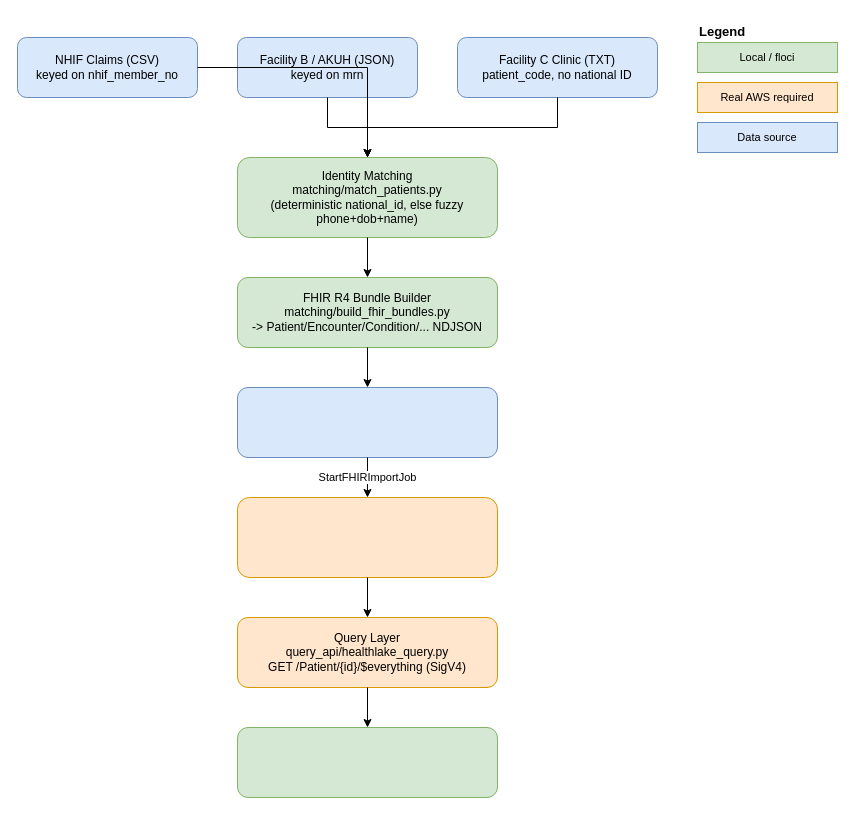
This 855x815 diagram has some shape labels left out. Each missing label, with the centre of its shape:
AWS HealthLake FHIR R4 Data Store StartFHIRImportJob (NOT emulated by floci): (x=367, y=537)
Demo UI demo_ui/server.py (Flask) Before (siloed) vs After (unified): (x=367, y=762)
S3 Bucket raw/ + fhir-ready/ (floci for dev iteration -> real bucket for import): (x=367, y=422)
